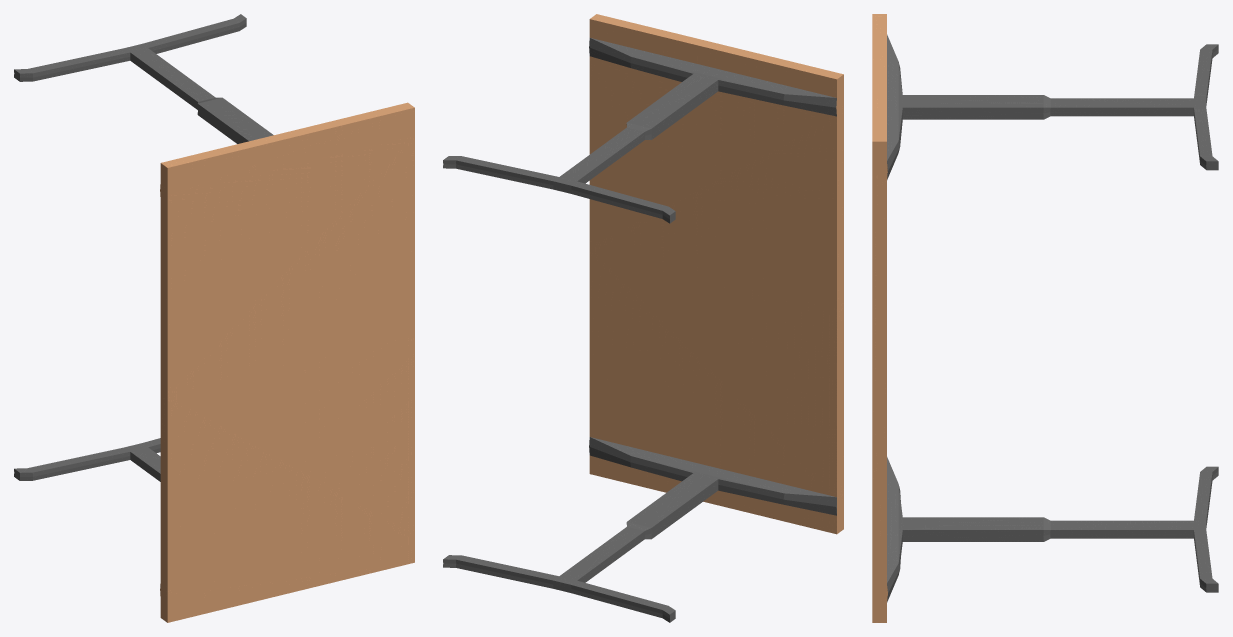
3 views of the same model, side by side, from view 1: azimuth 30°, elevation 25°; view 2: azimuth 150°, elevation 25°; view 3: azimuth 270°, elevation 25° (orthographic). The views are drawn at different scales.
Visible parts, largest first — view 1: Desk1Leg.002; view 2: Desk1Leg.002; view 3: Desk1Leg.002.
Boxes of the visible parts, x1,y1,x2,y2 form: Desk1Leg.002: [14, 14, 414, 622]; Desk1Leg.002: [443, 14, 843, 622]; Desk1Leg.002: [872, 14, 1218, 622].
Bounding box in the file's own units: 2 × 3.52 × 2.29.
Materials: 1 (1 with a texture image).
